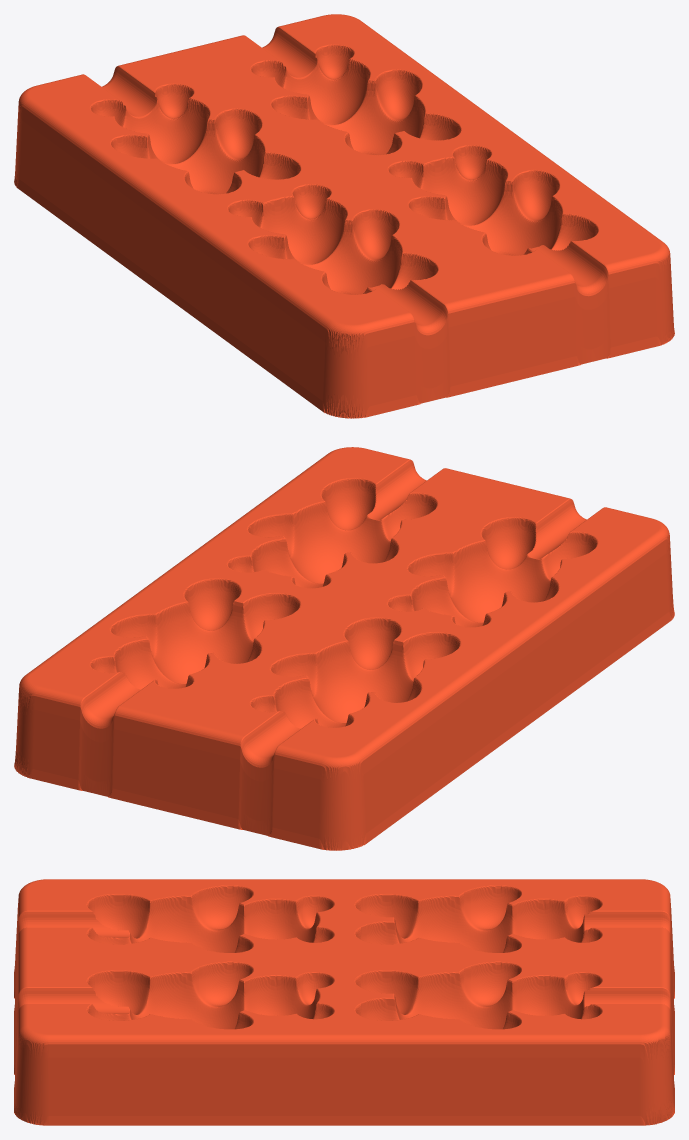
The model's file is mold.glb.
3 renders of one model, top to bottom at view 1: azimuth 30°, elevation 25°; view 2: azimuth 150°, elevation 25°; view 3: azimuth 270°, elevation 25°, orthographic. The views are drawn at different scales.
Parts seen in each view (by area): view 1: geometry_0; view 2: geometry_0; view 3: geometry_0.
Boxes of the visible parts, left/top/right/bottom form: geometry_0: left=14, top=14, right=674, bottom=418; geometry_0: left=14, top=447, right=674, bottom=850; geometry_0: left=14, top=879, right=674, bottom=1125.
Bounding box in the file's own units: 0.1019 × 0.0245 × 0.1715.
